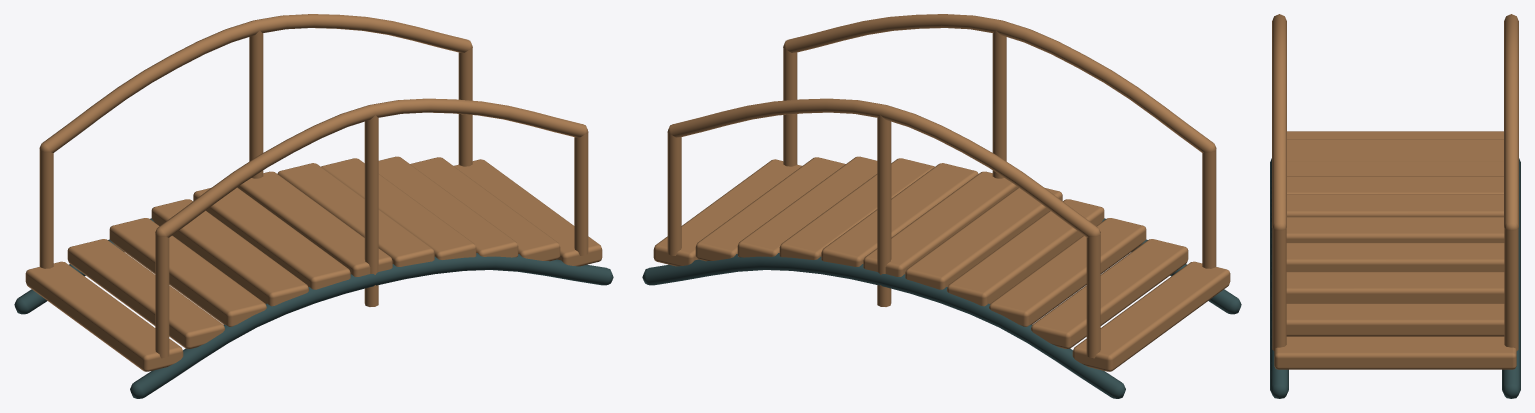
File: almanac-gardens-footbridge-4de89dc1.glb
The picture shows the model from 3 angles, left to right: view 1: azimuth 30°, elevation 25°; view 2: azimuth 150°, elevation 25°; view 3: azimuth 270°, elevation 25°; orthographic projection.
Visible parts, largest first — view 1: footbridge-oak, footbridge-iron; view 2: footbridge-oak, footbridge-iron; view 3: footbridge-oak, footbridge-iron.
Part boxes in pixels (bbox=[...]): footbridge-oak: bbox=[25, 14, 602, 371]; footbridge-iron: bbox=[14, 218, 613, 398]; footbridge-oak: bbox=[653, 14, 1230, 371]; footbridge-iron: bbox=[642, 218, 1241, 398]; footbridge-oak: bbox=[1272, 14, 1518, 369]; footbridge-iron: bbox=[1270, 158, 1520, 398].
Size of the model in its own units: 2.07 by 0.973 by 0.93.
